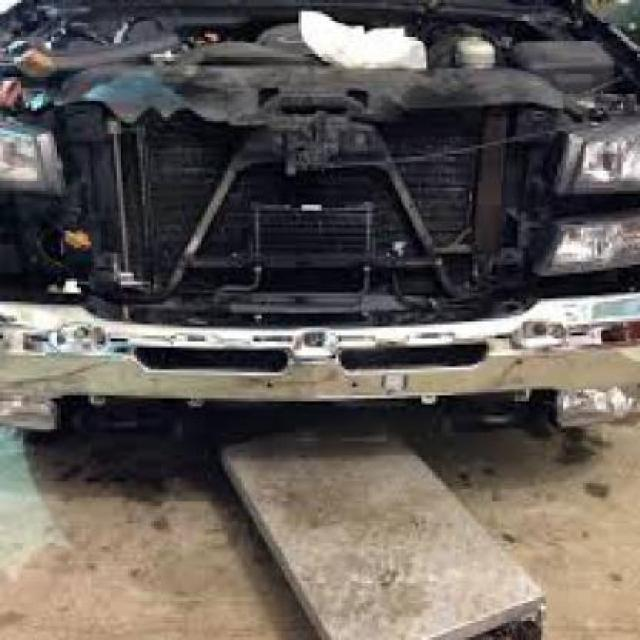damaged-front-bumper: (0, 287, 637, 413)
